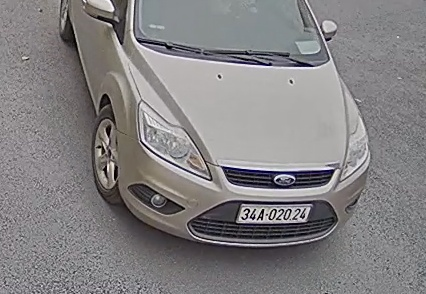vehicle plate: (234, 194, 310, 228)
